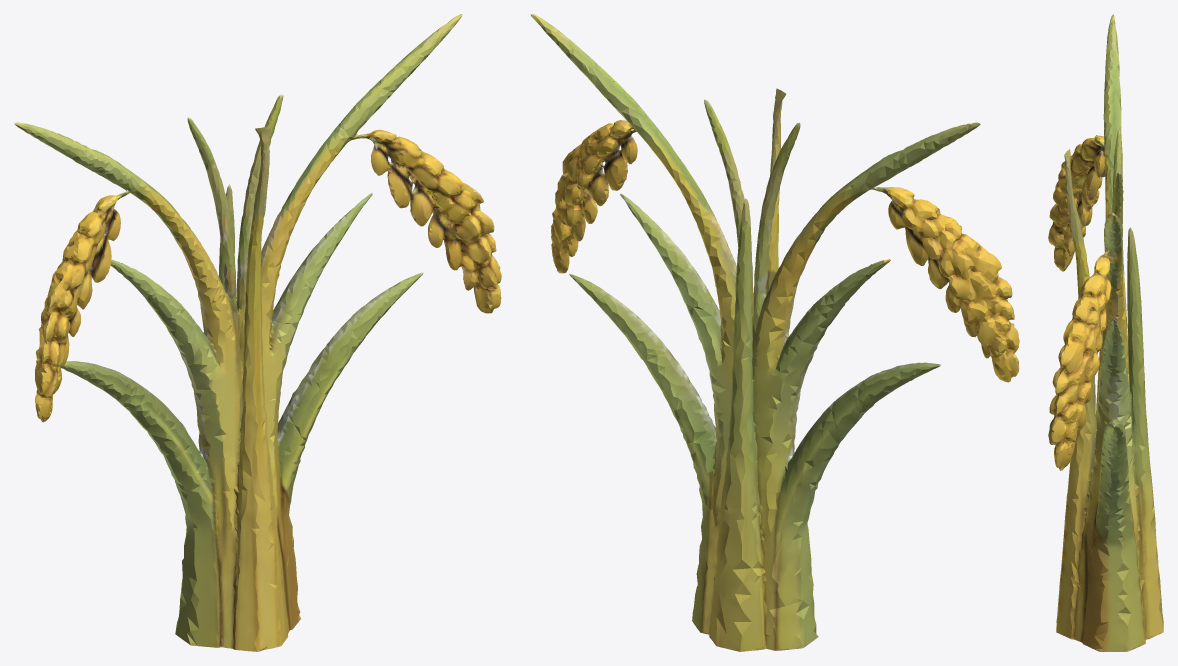
The model's file is crop_rice.glb.
3 views of the same model, side by side, from view 1: azimuth 30°, elevation 25°; view 2: azimuth 150°, elevation 25°; view 3: azimuth 270°, elevation 25° (orthographic). The views are drawn at different scales.
Visible parts, largest first — view 1: crop_rice; view 2: crop_rice; view 3: crop_rice.
Part boxes in pixels (<box>): crop_rice: <box>14,14,501,651</box>; crop_rice: <box>530,14,1019,651</box>; crop_rice: <box>1048,14,1163,651</box>.
Size of the model in its own units: 0.8702 by 1 by 0.2039.
1 material, 1 textured.
